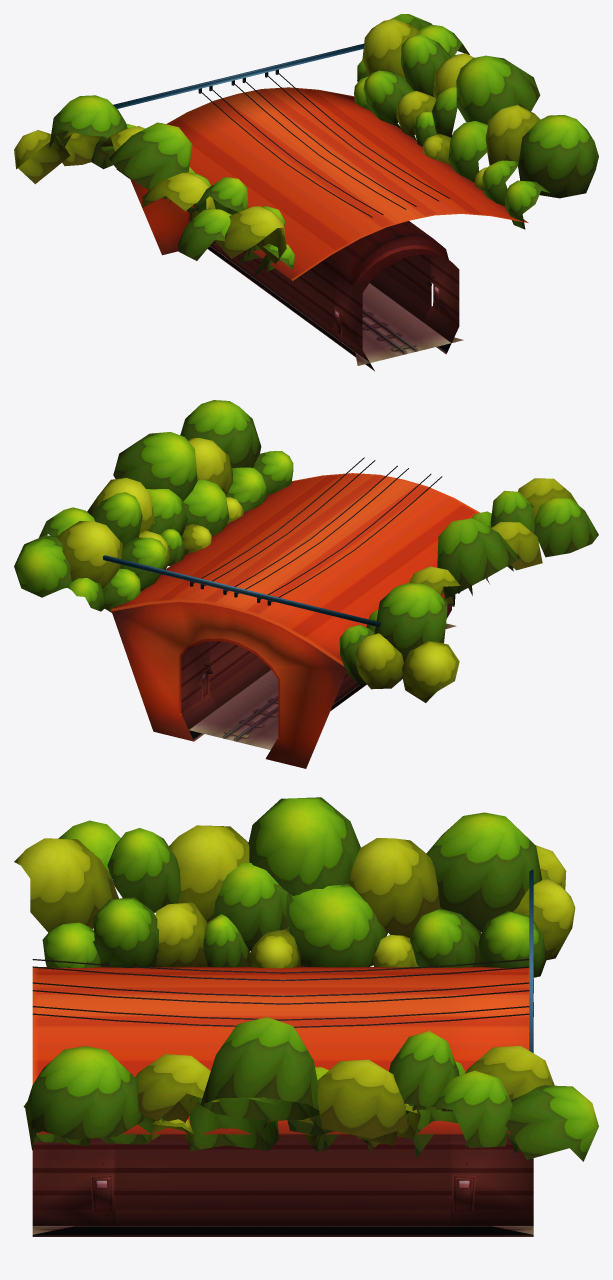
The model's file is road_station.fbx.
3 renders of one model, top to bottom at view 1: azimuth 30°, elevation 25°; view 2: azimuth 150°, elevation 25°; view 3: azimuth 270°, elevation 25°, orthographic. The views are drawn at different scales.
Visible parts, largest first — view 1: road_station_obj; view 2: road_station_obj; view 3: road_station_obj.
Boxes of the visible parts, bbox=[...] form: road_station_obj: bbox=[14, 14, 598, 371]; road_station_obj: bbox=[14, 400, 598, 768]; road_station_obj: bbox=[14, 797, 598, 1236].
Size of the model in its own units: 26039 by 11955 by 21013.
Materials: 1 (1 with a texture image).
